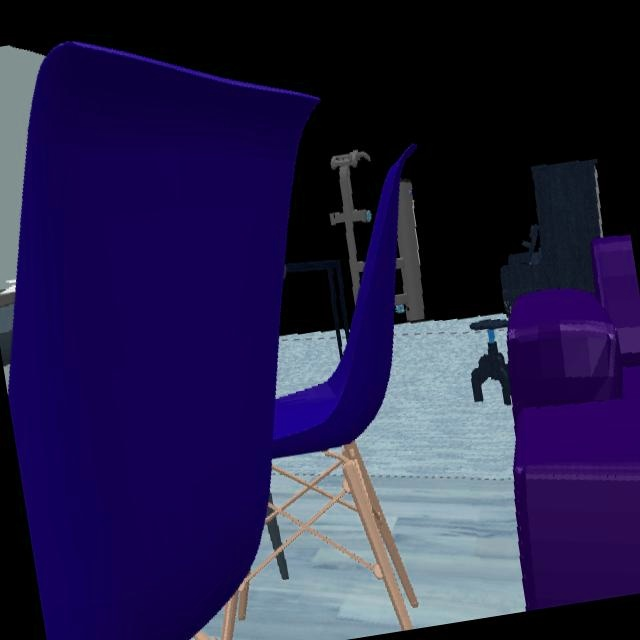chair: (6, 44, 419, 640)
sofa: (510, 242, 640, 611)
